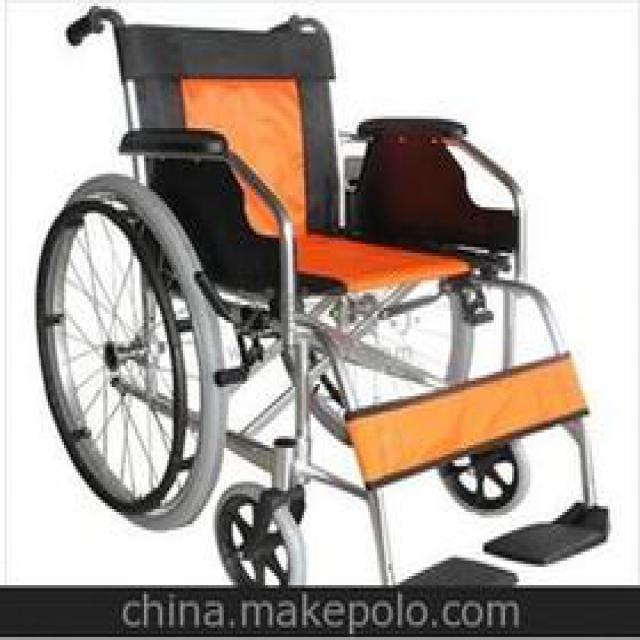wheelchair: (34, 0, 608, 585)
